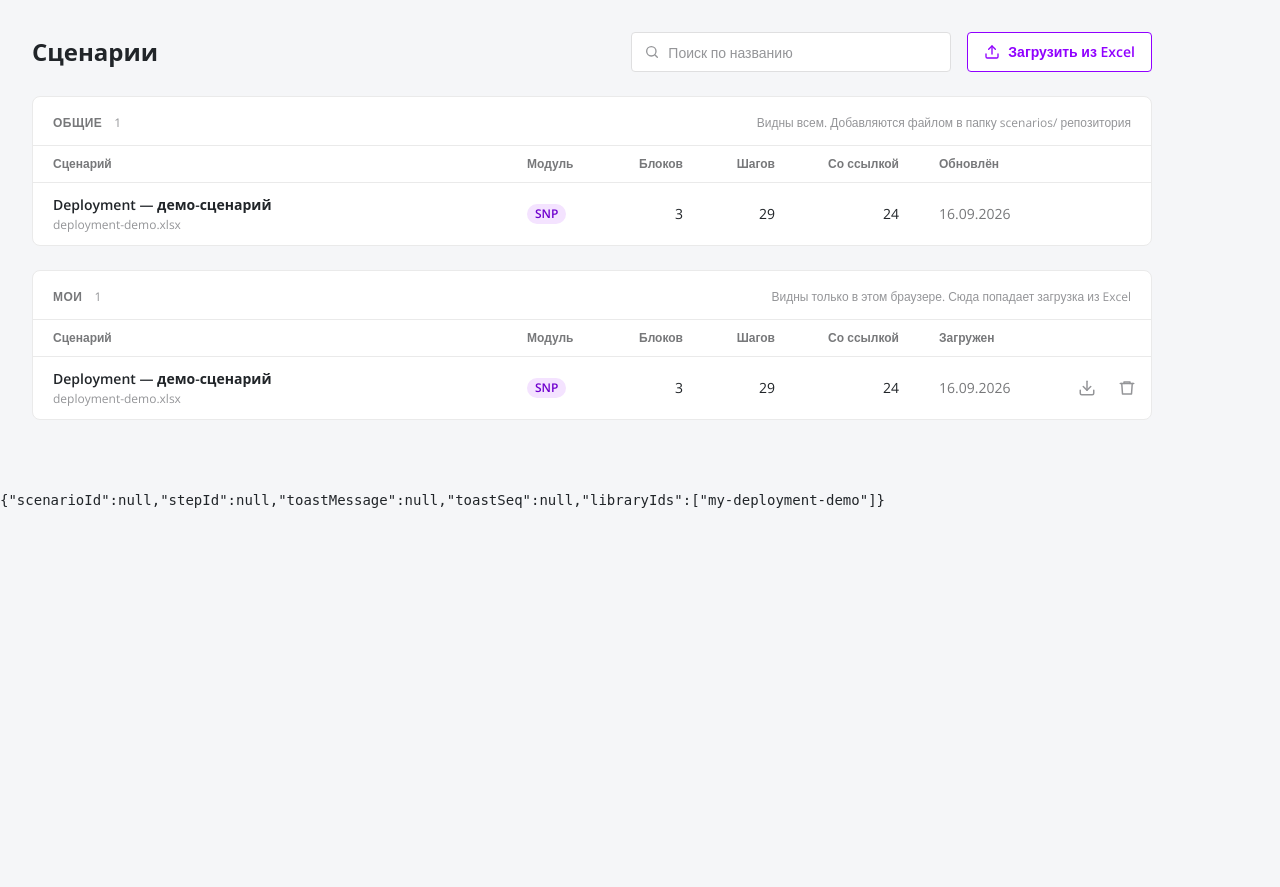
Test case: Открытие из каталога обновляет адрес (SPEC §4.7:323) › клик по общему → ?scenario=deployment-demo&step=1.1, затем «‹ Сценарии», затем клик по «моему» → ?scenario=my-…&step=1.1
Click the button "Deployment — демо-сценарий" below "Общие": x=270, y=205 top-left (53, 195), bottom-right (487, 215)
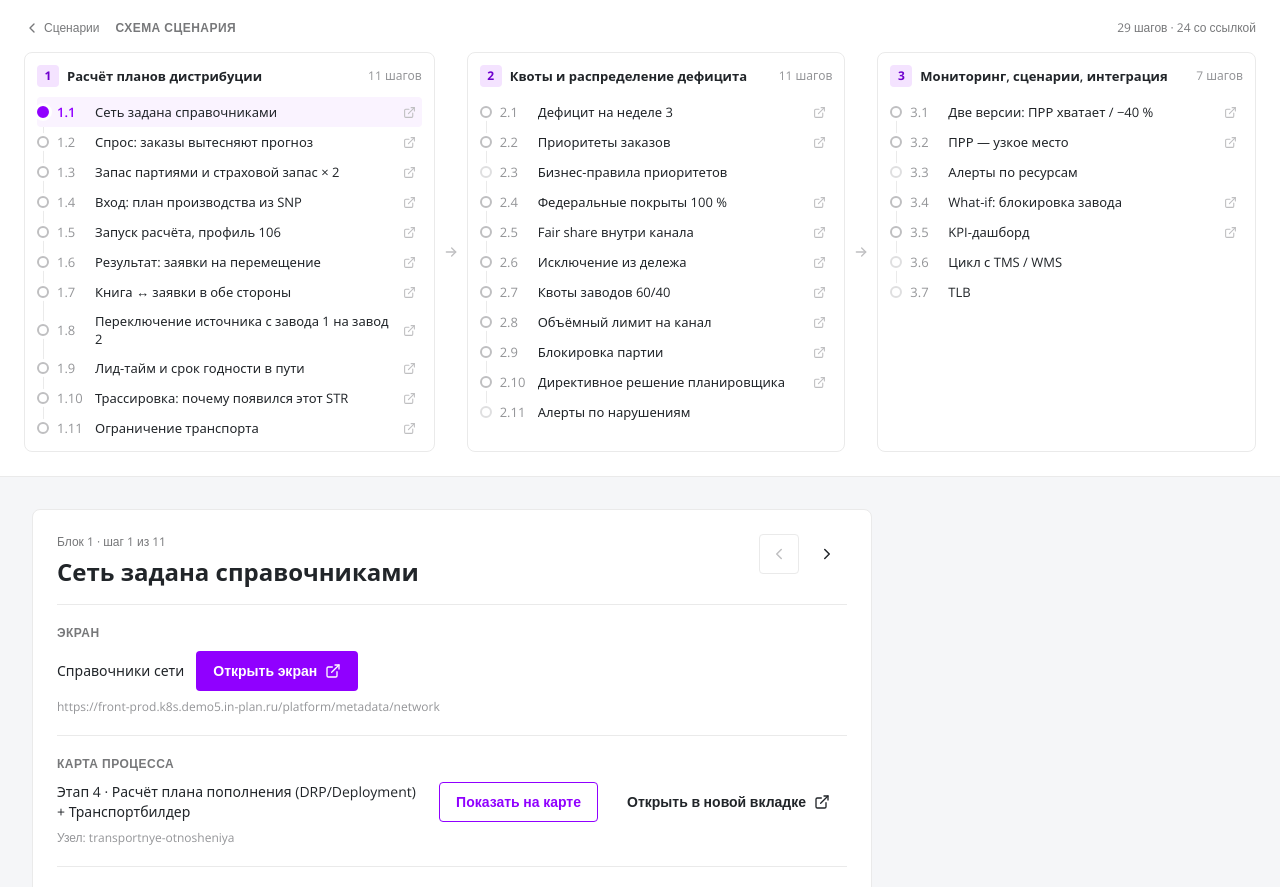
Expected: the heading "Сеть задана справочниками" is shown, top-left (57, 555), bottom-right (419, 588)
Click the button "Сценарии": x=62, y=28 top-left (24, 20), bottom-right (100, 36)
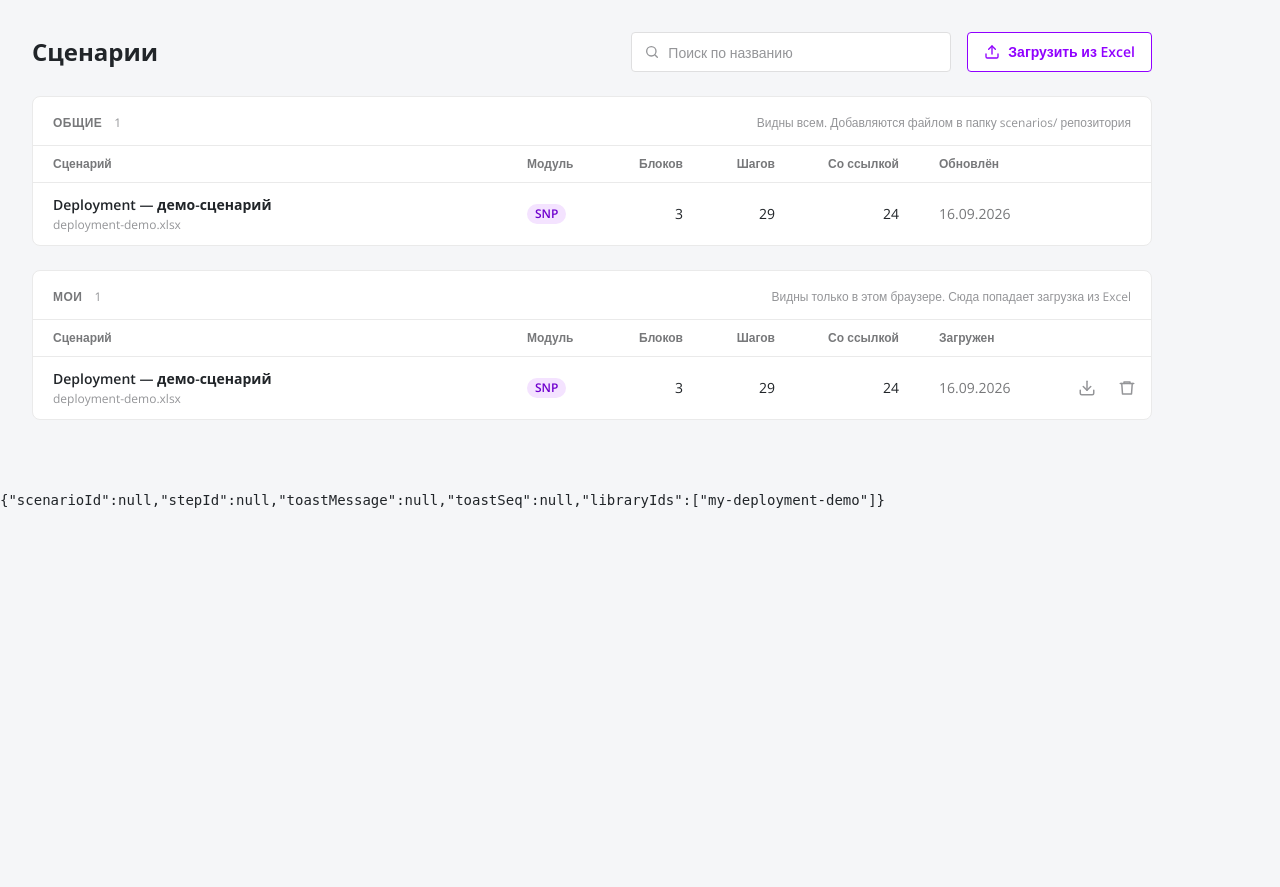
Expected: the heading "Сценарии" is shown, top-left (32, 36), bottom-right (158, 68)
Click the button "Deployment — демо-сценарий" below "Мои": x=270, y=379 top-left (53, 369), bottom-right (487, 389)
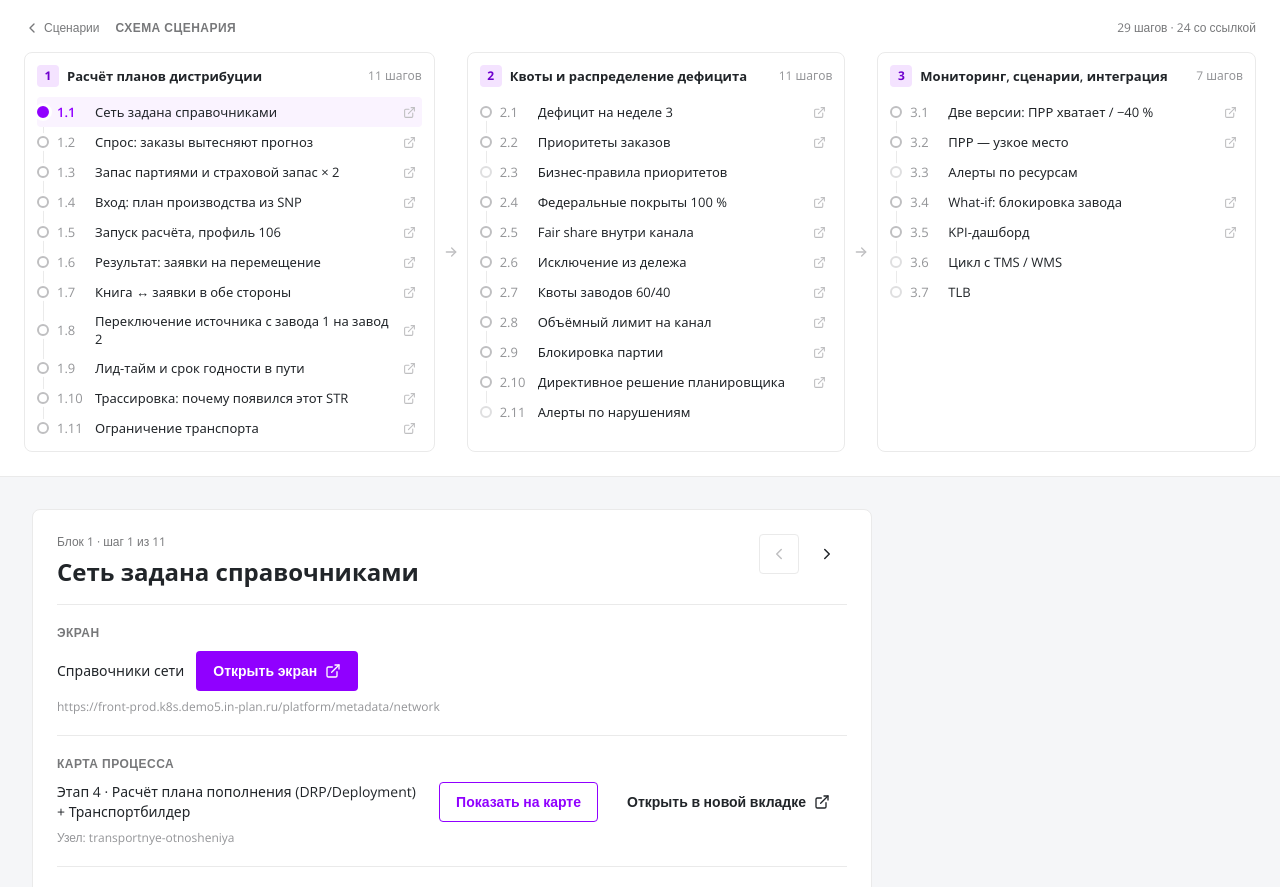
Expected: the heading "Сеть задана справочниками" is shown, top-left (57, 555), bottom-right (419, 588)
